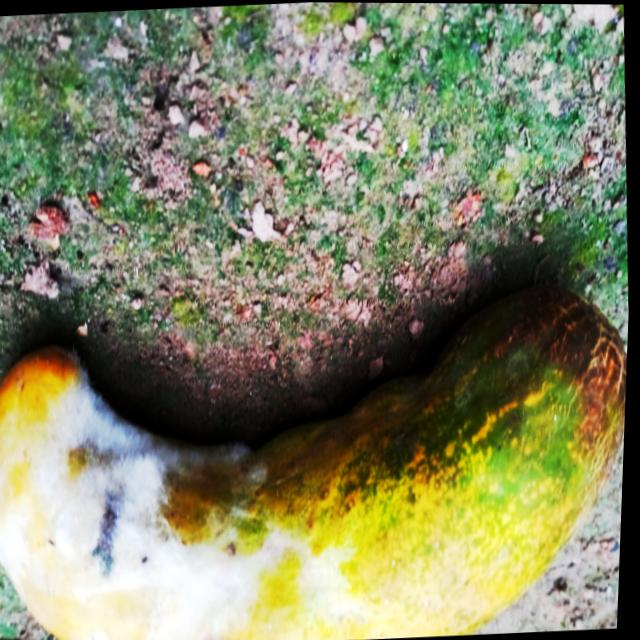Pythium-Fruit-Rot: (0, 350, 360, 640)
